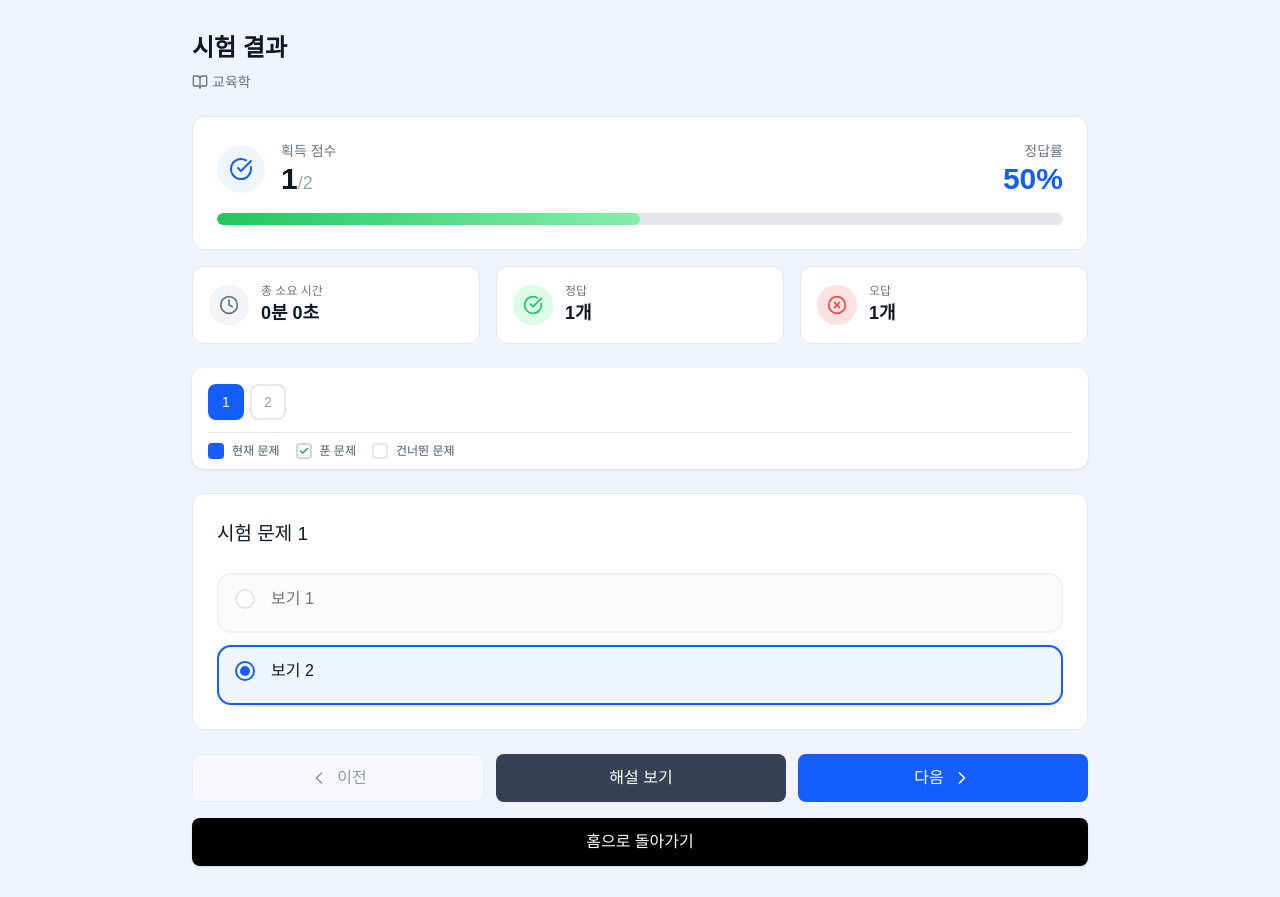
Test: TestModePage › shows an explanation error when result explanation loading fails
expect the heading "시험 결과" is shown: met, box [192,34,287,61]
Click the button "해설 보기" at (641, 778), box [496,754,786,802]
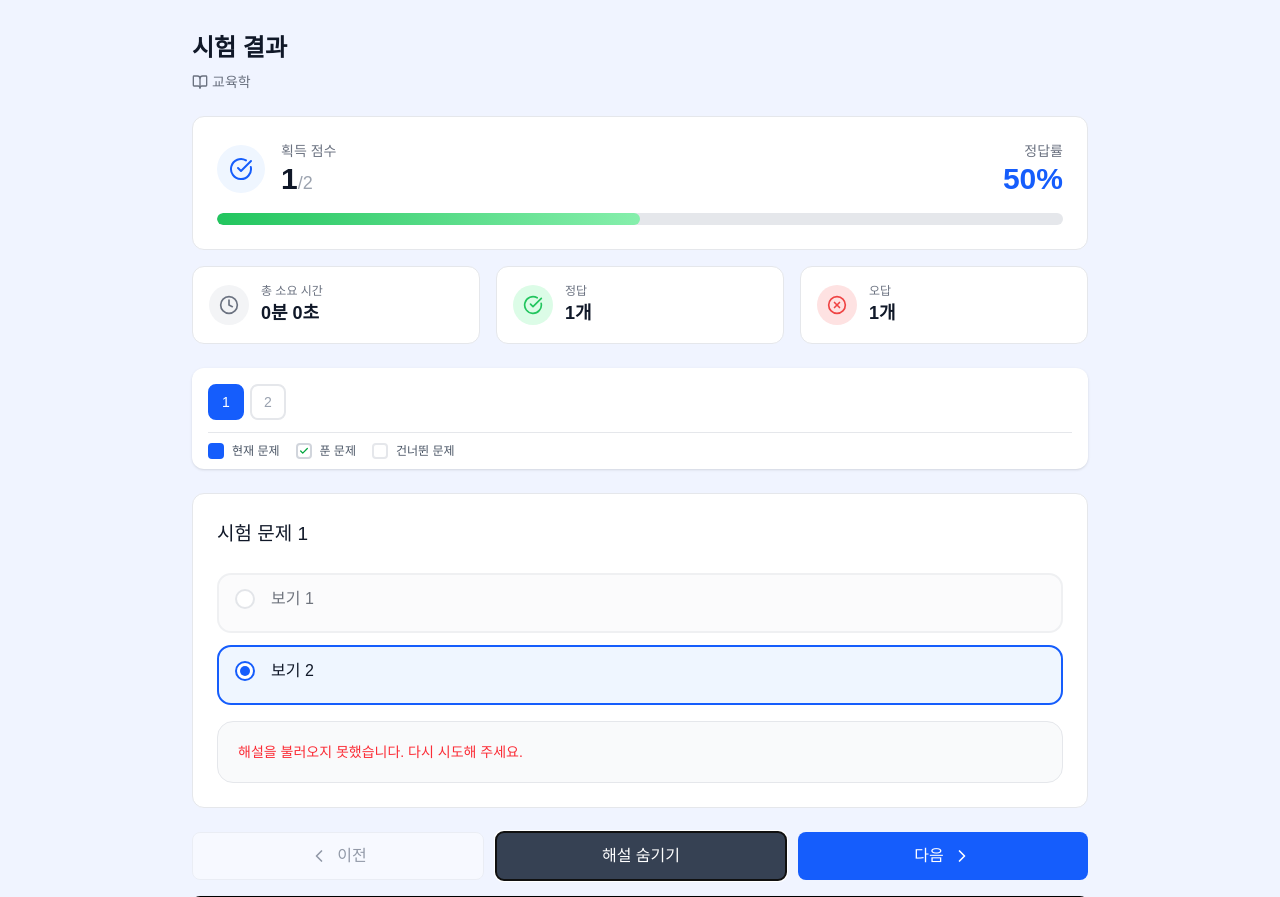
expect the text "해설을 불러오지 못했습니다. 다시 시도해 주세요." is shown: met, box [238,744,523,760]
